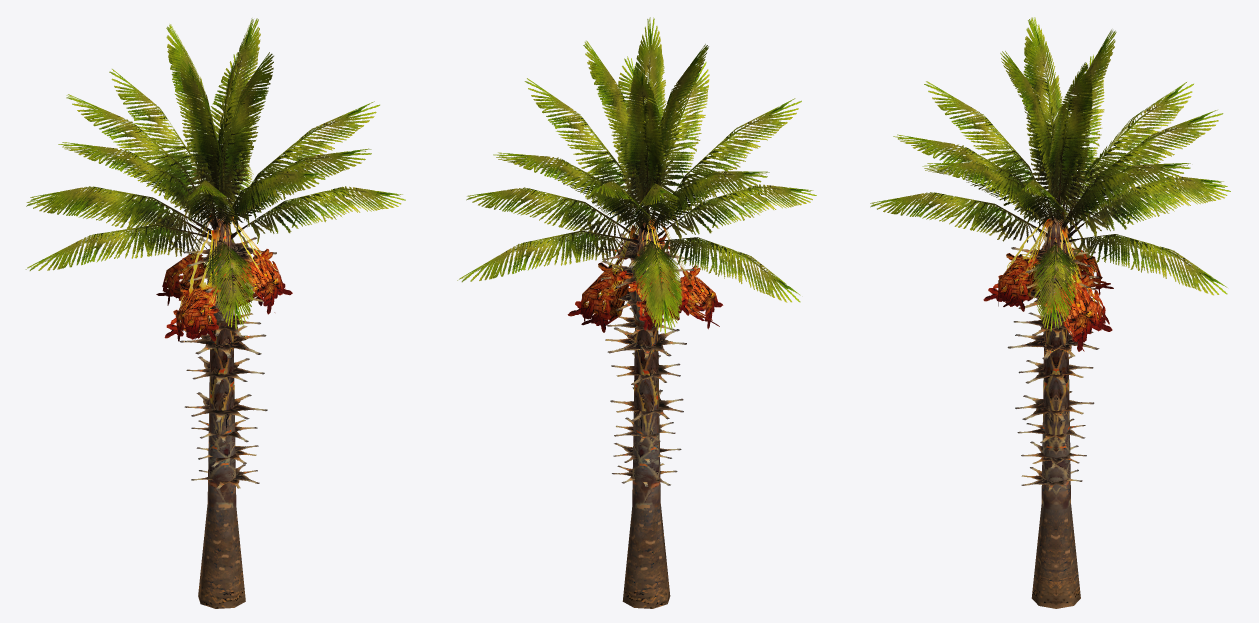
File: flora_fruit_date.glb
3 views of the same model, side by side, from view 1: azimuth 30°, elevation 25°; view 2: azimuth 150°, elevation 25°; view 3: azimuth 270°, elevation 25° (orthographic).
Visible parts, largest first — view 1: flora_fruit_date_part0; view 2: flora_fruit_date_part0; view 3: flora_fruit_date_part0.
Boxes of the visible parts, x1,y1,x2,y2 form: flora_fruit_date_part0: (25, 18, 405, 608); flora_fruit_date_part0: (457, 17, 816, 608); flora_fruit_date_part0: (870, 17, 1230, 608).
Size of the model in its own units: 12.16 by 17.89 by 11.18.
Materials: 1 (1 with a texture image).
